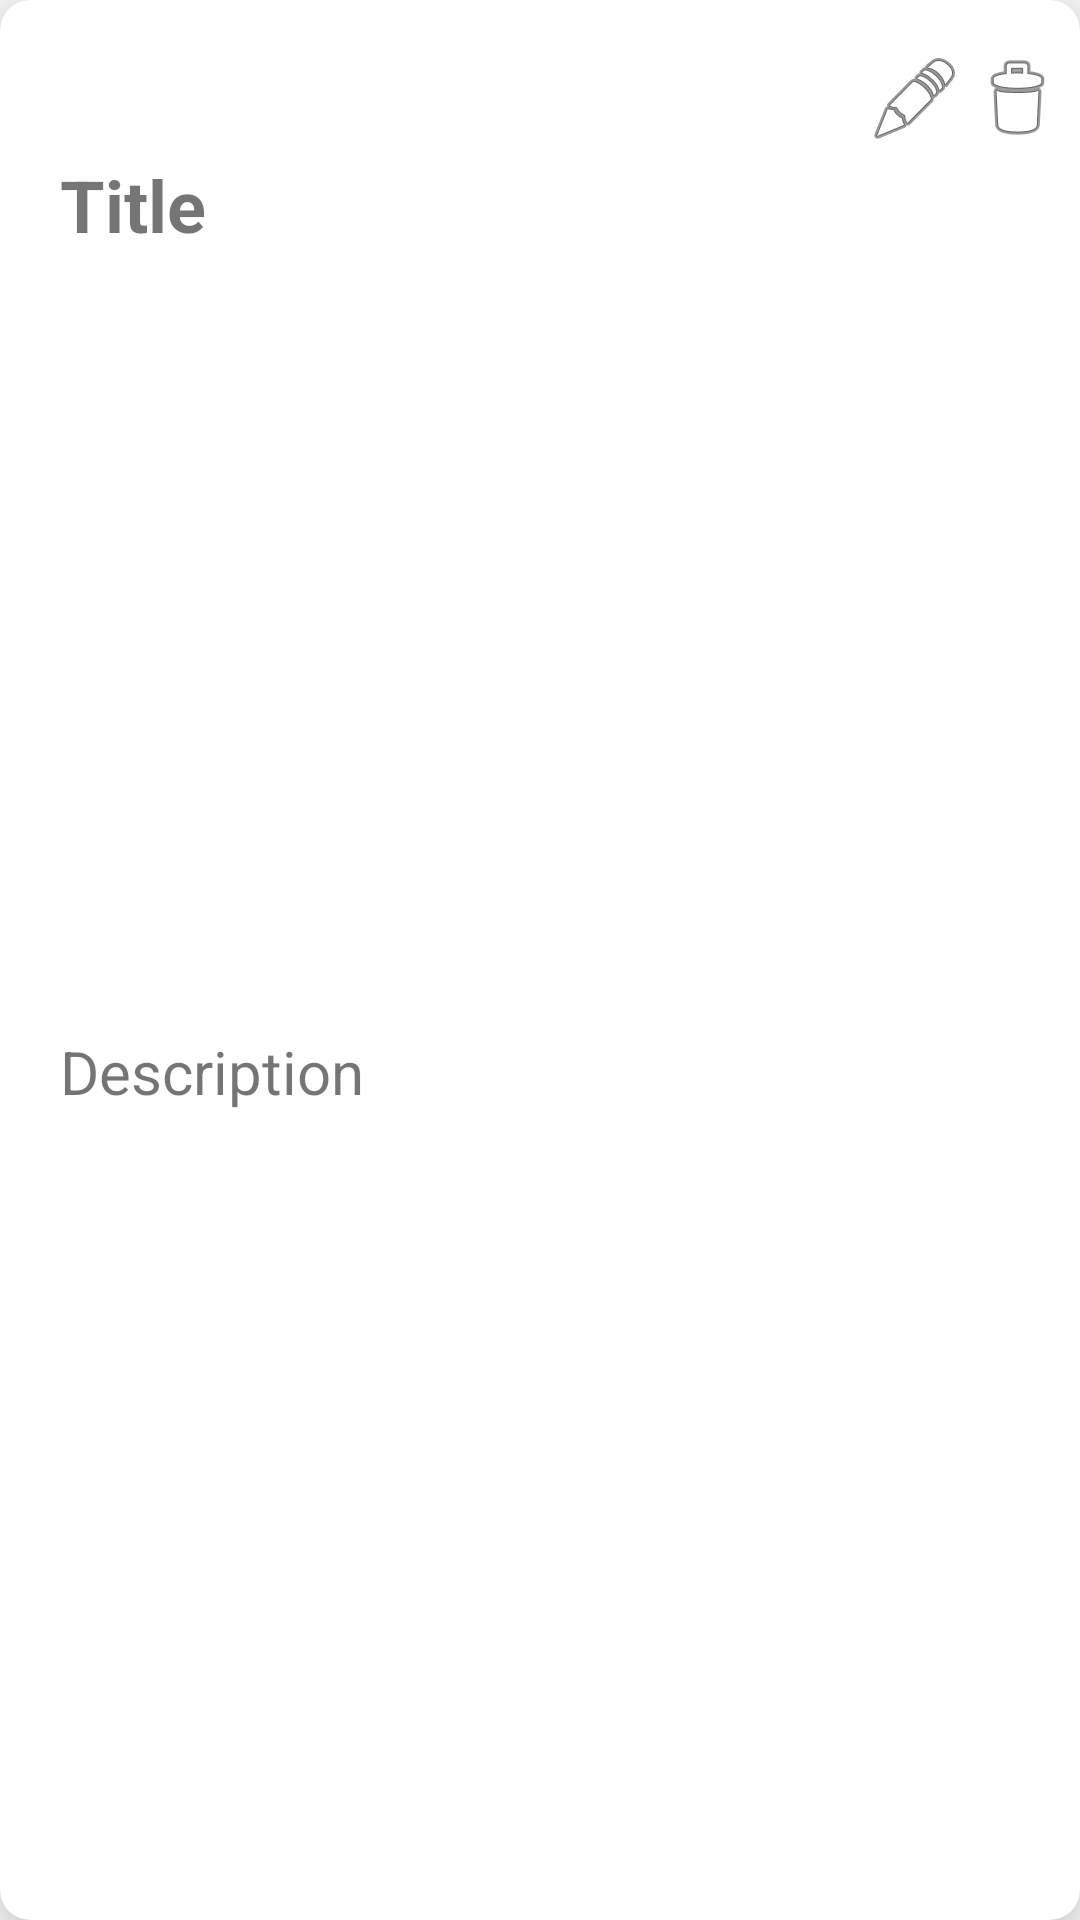

Locate icon controls on the screen. Image size 1080*1920, boxes as (x1, y1, x2, y2).
edit: (874, 58, 955, 139)
